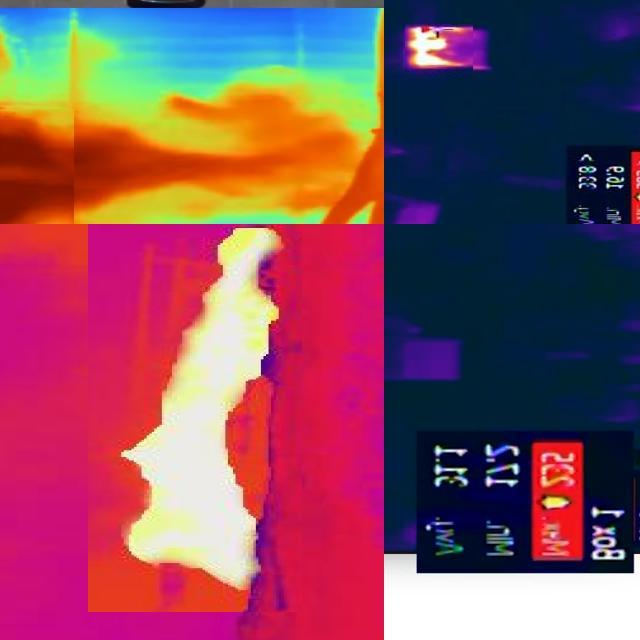fire: (88, 225, 301, 597), (1, 110, 73, 225), (405, 25, 473, 73)
